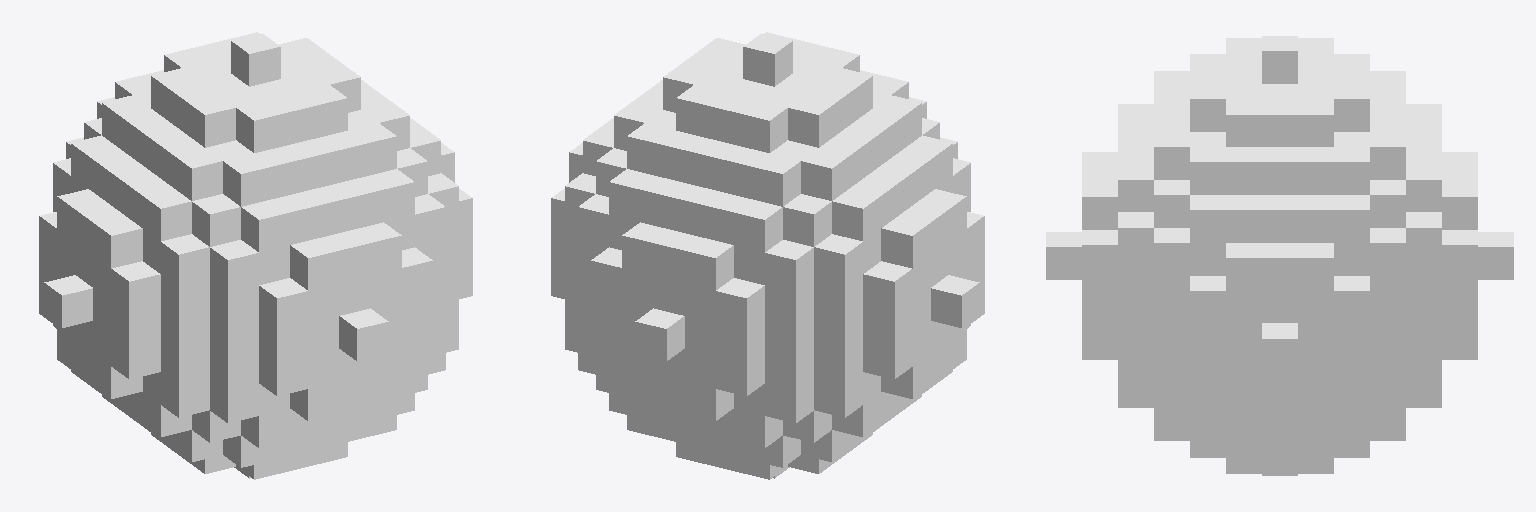
File: synapse_enemy4.obj
The picture shows the model from 3 angles: view 1: azimuth 30°, elevation 25°; view 2: azimuth 150°, elevation 25°; view 3: azimuth 270°, elevation 25°; orthographic projection.
Parts seen in each view (by area): view 1: object 1; view 2: object 1; view 3: object 1.
Part boxes in pixels (bbox=[...]): object 1: bbox=[39, 32, 472, 479]; object 1: bbox=[551, 32, 984, 479]; object 1: bbox=[1046, 36, 1513, 475].
Bounding box in the file's own units: 1.3 × 1.3 × 1.3.